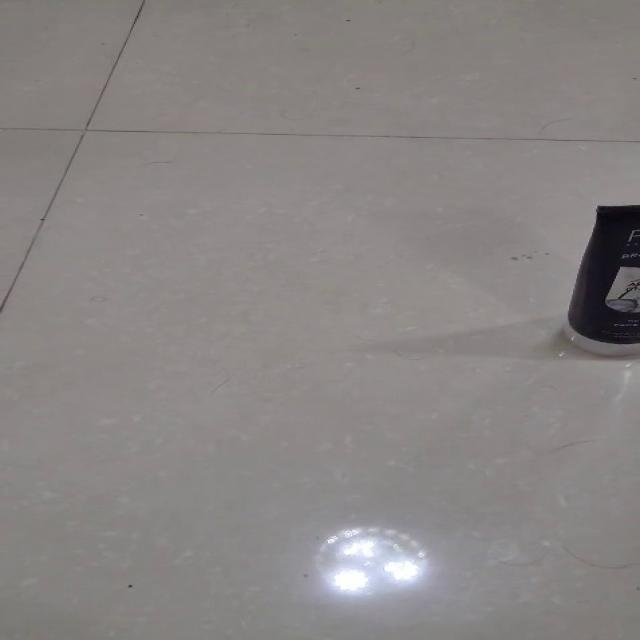plastic: (564, 203, 638, 356)
